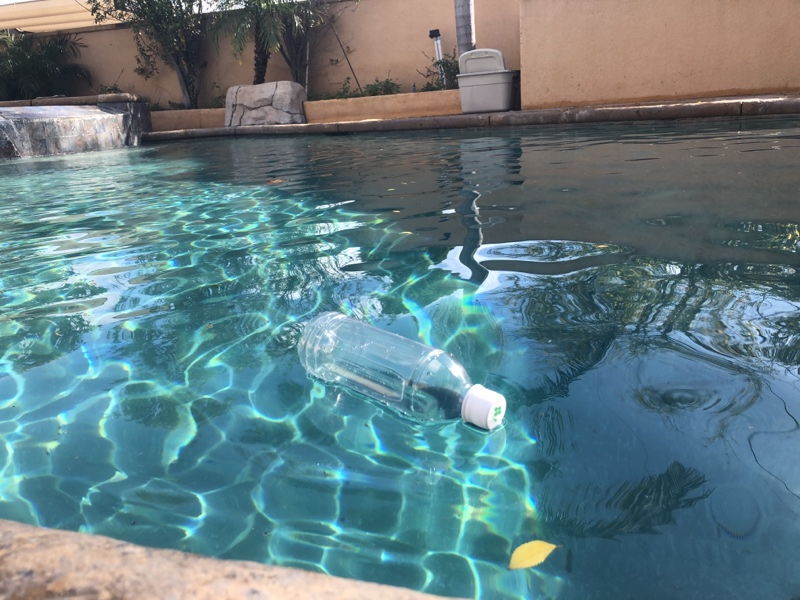Plastic Bottle: (294, 309, 509, 436)
